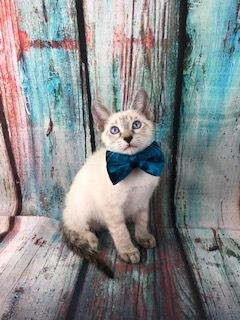siamese: (89, 87, 160, 161)
